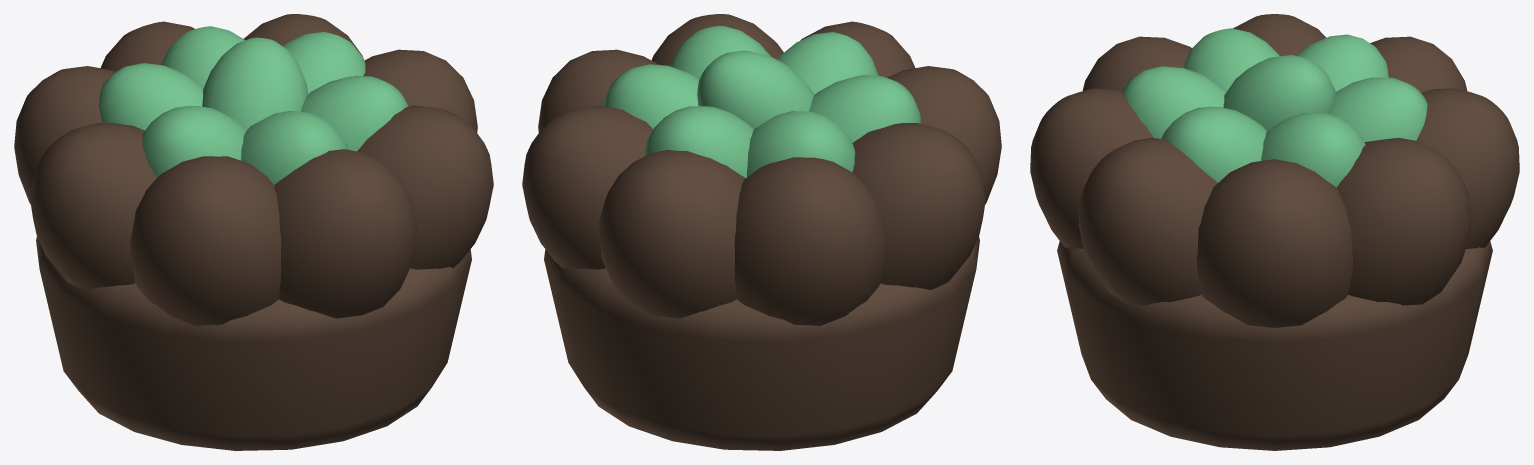
The model's file is succulent.glb.
3 renders of one model, left to right at view 1: azimuth 30°, elevation 25°; view 2: azimuth 150°, elevation 25°; view 3: azimuth 270°, elevation 25°, orthographic.
Visible parts, largest first — view 1: succulent; view 2: succulent; view 3: succulent.
Part boxes in pixels (x1,y1,x2,y2): succulent: [14, 14, 493, 450]; succulent: [522, 14, 1001, 450]; succulent: [1030, 14, 1519, 450].
Bounding box in the file's own units: 0.2066 × 0.1544 × 0.2066.
